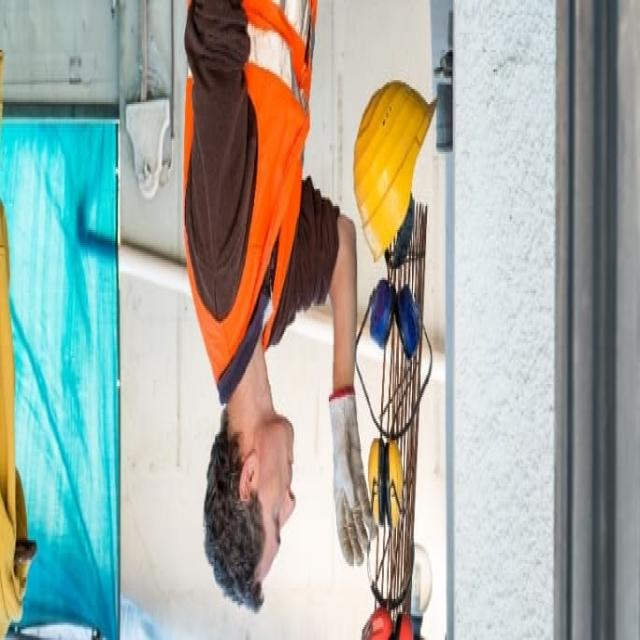Ear-Protection: (394, 282, 424, 365), (385, 438, 404, 545), (366, 284, 392, 356), (366, 443, 384, 540), (362, 603, 392, 640), (392, 607, 416, 640)
Gloves: (326, 394, 369, 580)
Helmet: (350, 72, 439, 276)
Vest: (188, 0, 318, 402)
